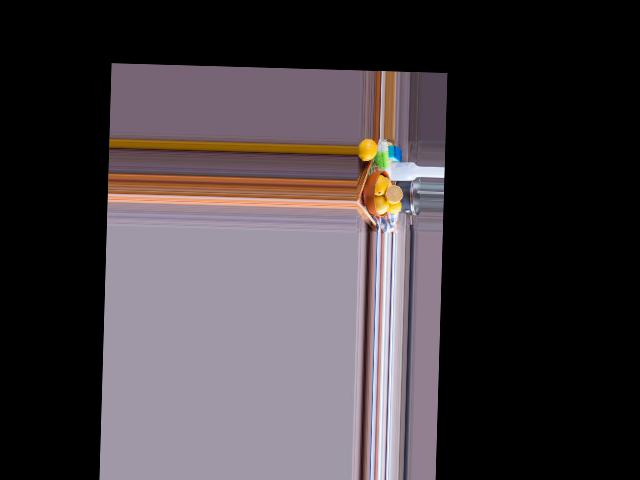lemon: (357, 138, 377, 162)
